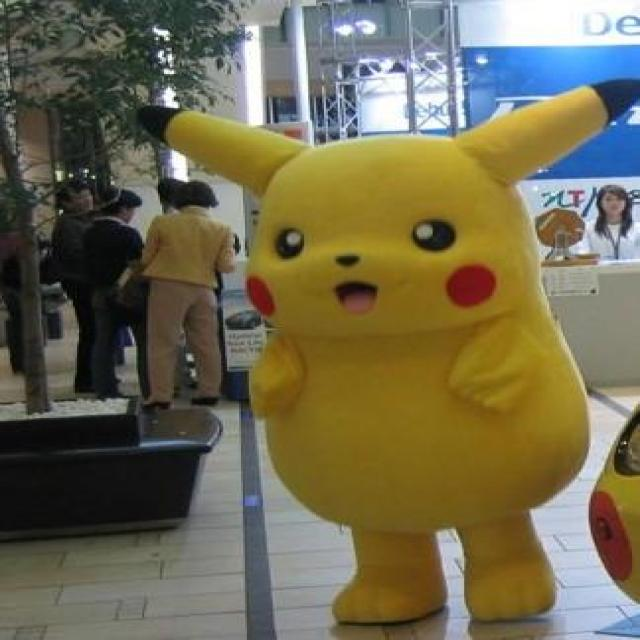pikachu: (130, 74, 640, 627)
